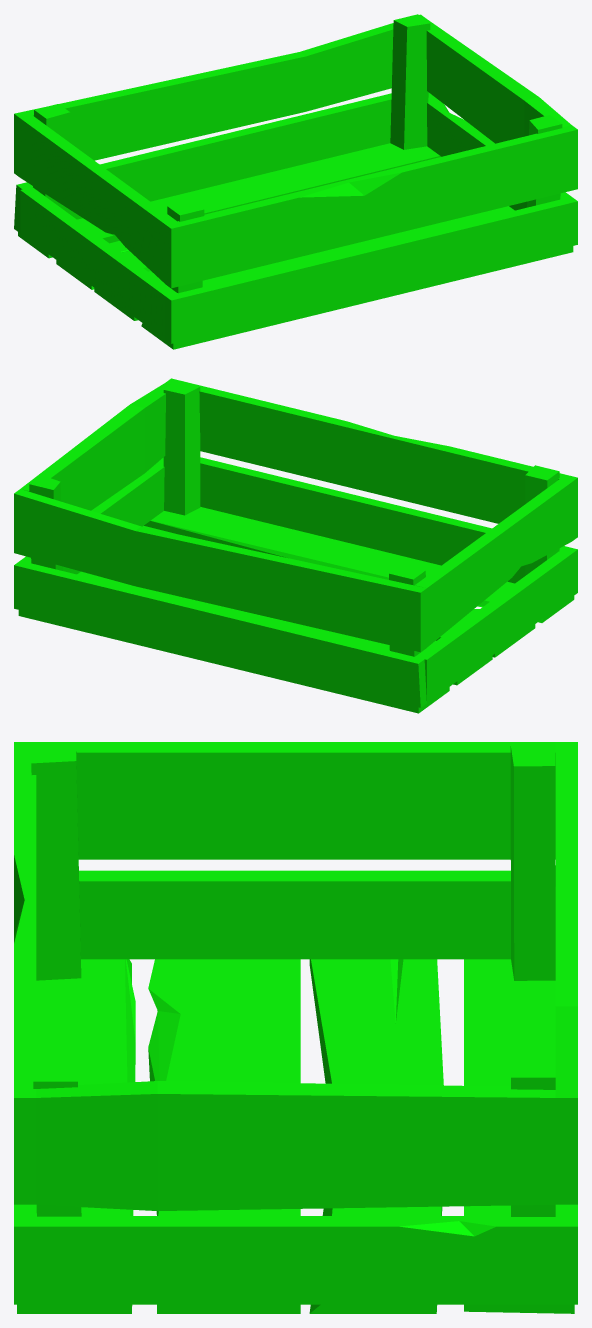
The model's file is SM_Crate_Wood_B_Short_Fantasy.fbx.
3 views of the same model, one above another, from view 1: azimuth 30°, elevation 25°; view 2: azimuth 150°, elevation 25°; view 3: azimuth 270°, elevation 25° (orthographic). The views are drawn at different scales.
Visible parts, largest first — view 1: crate-wood-b-short-fantasy; view 2: crate-wood-b-short-fantasy; view 3: crate-wood-b-short-fantasy.
Boxes of the visible parts, box(x1,y1,x2,y2) form: crate-wood-b-short-fantasy: box(14, 14, 577, 349); crate-wood-b-short-fantasy: box(14, 378, 577, 713); crate-wood-b-short-fantasy: box(14, 742, 577, 1313).
Size of the model in its own units: 0.6086 by 0.1842 by 0.4063.
